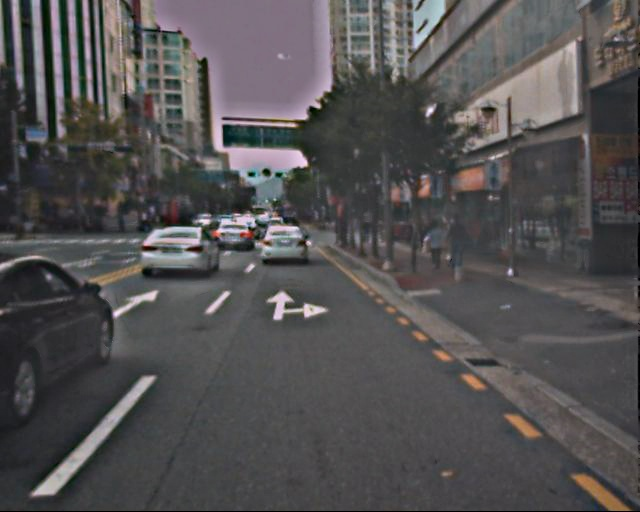person: (443, 209, 469, 272), (424, 217, 446, 271)
